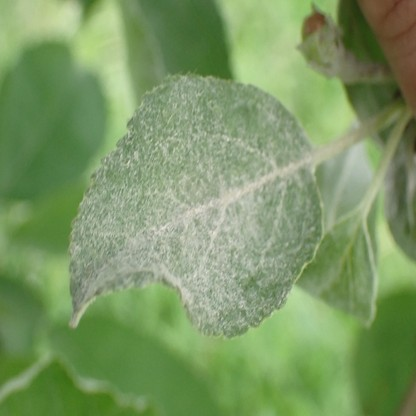powder: (67, 71, 323, 340), (299, 125, 388, 326)
